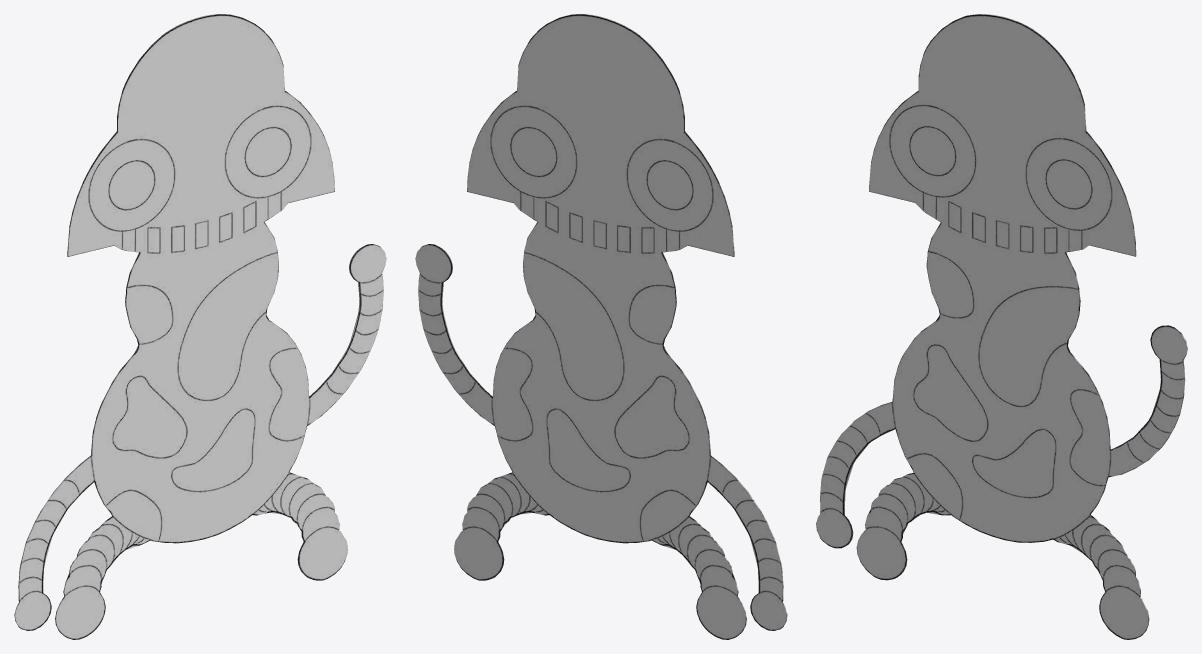
Rendered from 19_jongful.fbx.
The picture shows the model from 3 angles, left to right: view 1: azimuth 30°, elevation 25°; view 2: azimuth 150°, elevation 25°; view 3: azimuth 330°, elevation 25°; orthographic projection.
Parts seen in each view (by area): view 1: planarTrimmedSurface22; view 2: planarTrimmedSurface22; view 3: planarTrimmedSurface22.
Part boxes in pixels (bbox=[...]): planarTrimmedSurface22: bbox=[14, 14, 386, 639]; planarTrimmedSurface22: bbox=[415, 14, 787, 639]; planarTrimmedSurface22: bbox=[816, 14, 1187, 639].
Size of the model in its own units: 22.25 by 33.95 by 0.0639.
1 material, 1 textured.
